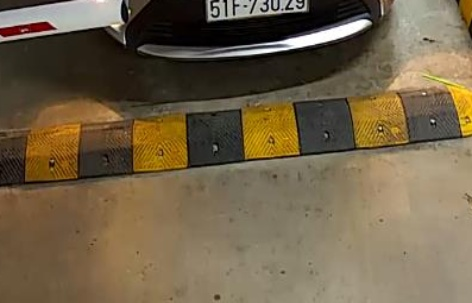plate: (204, 0, 314, 30)
